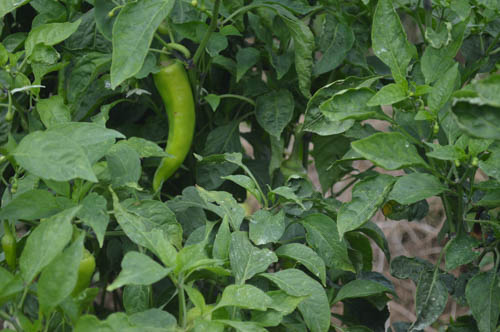ChiliPepper: (153, 62, 197, 204), (74, 249, 94, 294), (3, 234, 16, 266)
